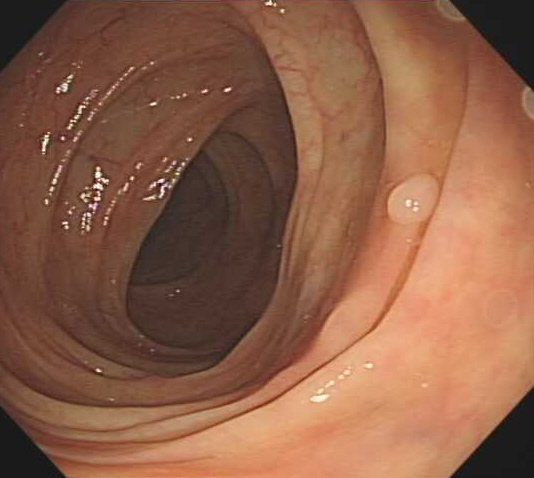adenoma: (384, 169, 440, 227)
